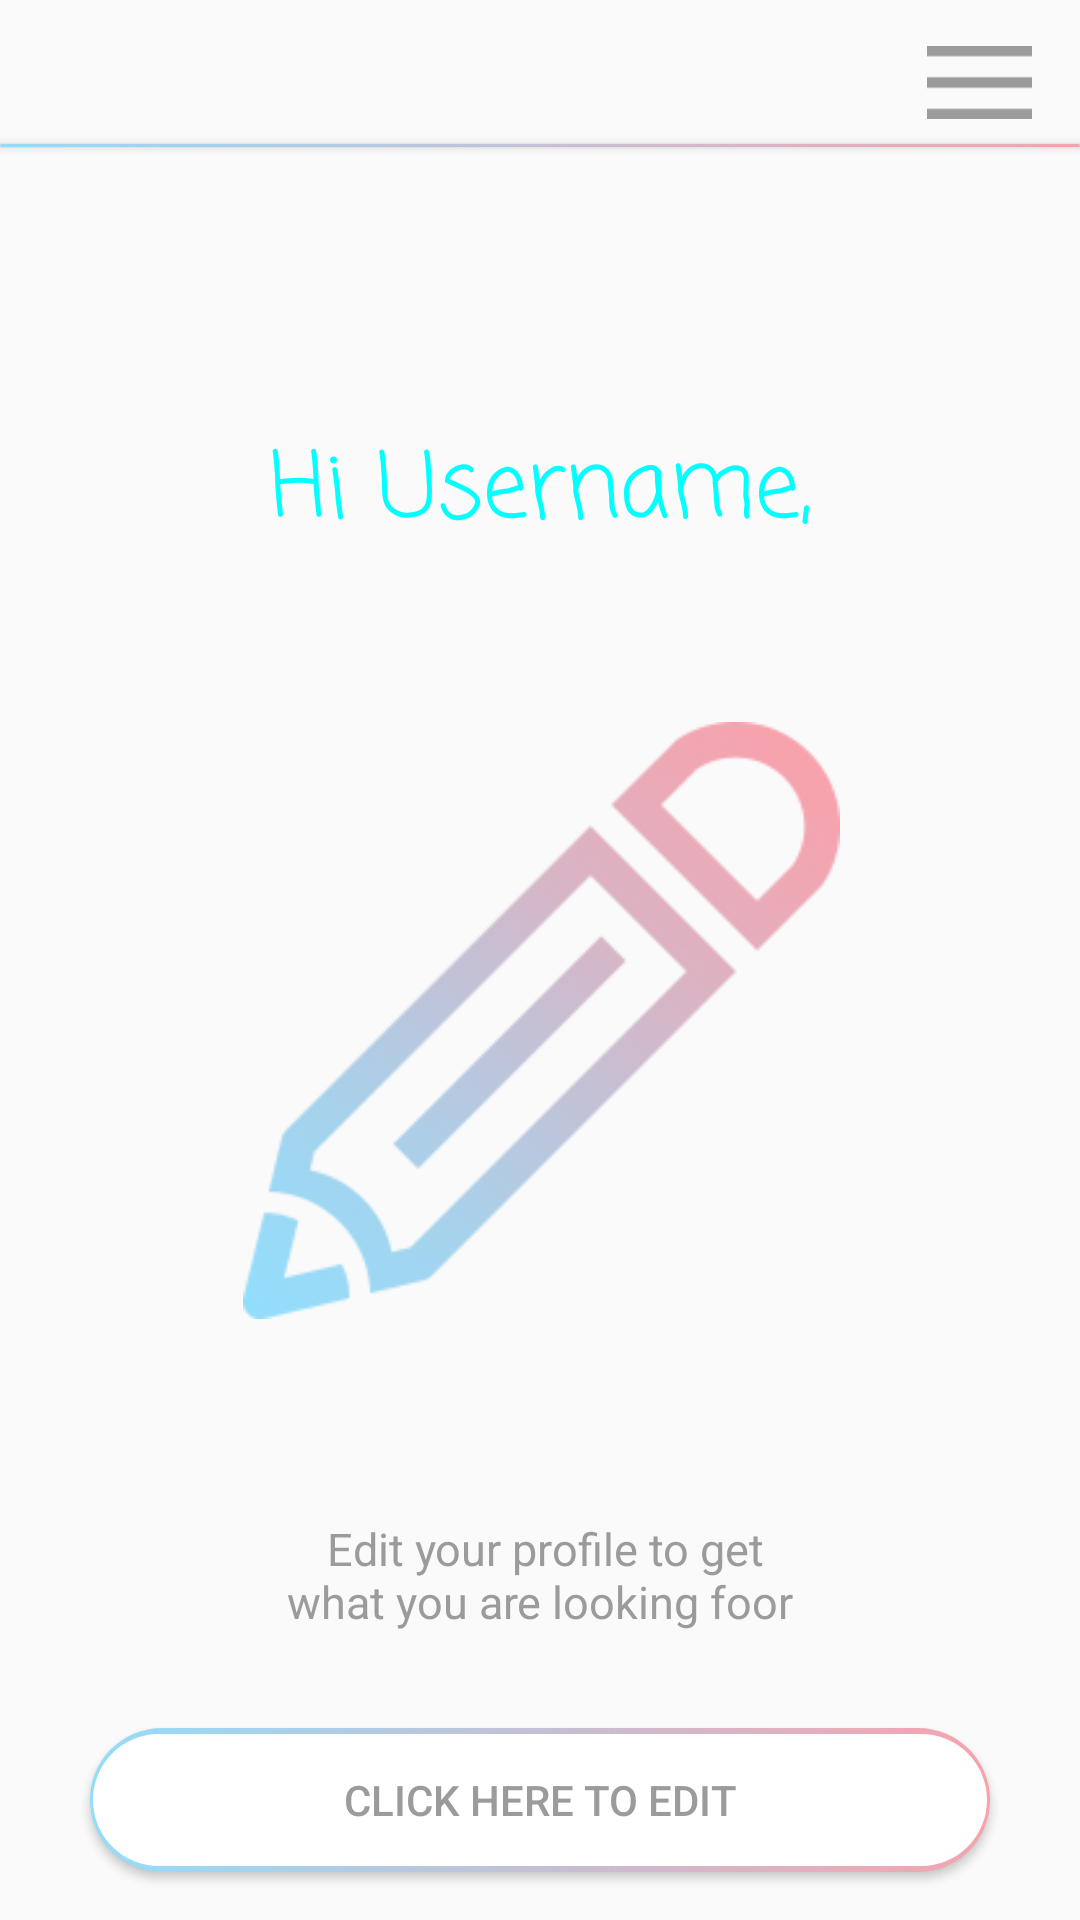

Where to tap for icons on this 1080 x 1920 app screen, as point (x, y):
menuicon: point (979, 82)
